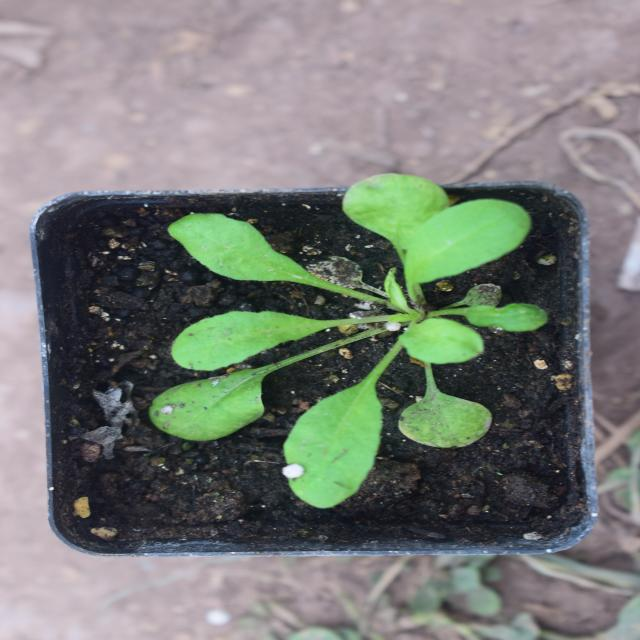Shepherd_Purse: (153, 168, 453, 545)
